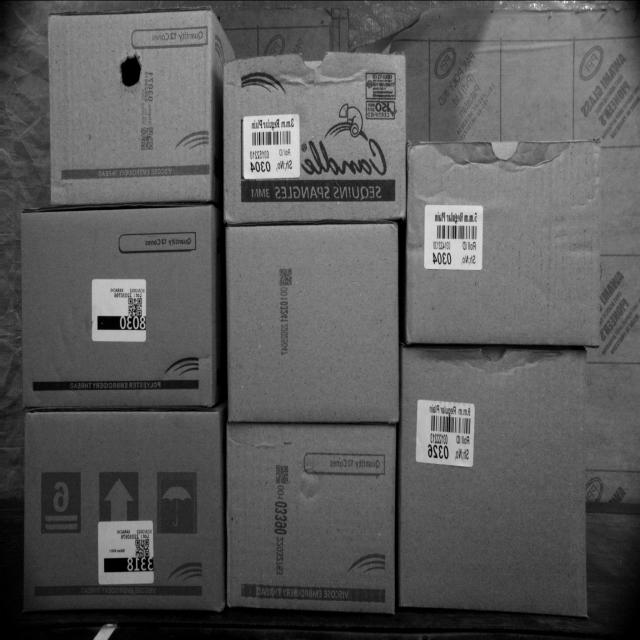cardboxes: (400, 346, 590, 617), (20, 409, 224, 612), (17, 211, 217, 409), (406, 143, 598, 341), (223, 222, 399, 426), (221, 421, 398, 610), (44, 14, 215, 203), (221, 55, 405, 223)
